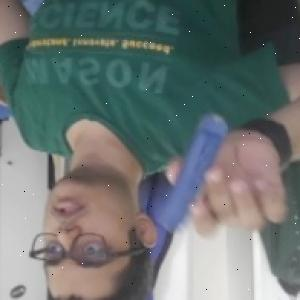Diamond-E-Ciggirate: (152, 110, 232, 238)
